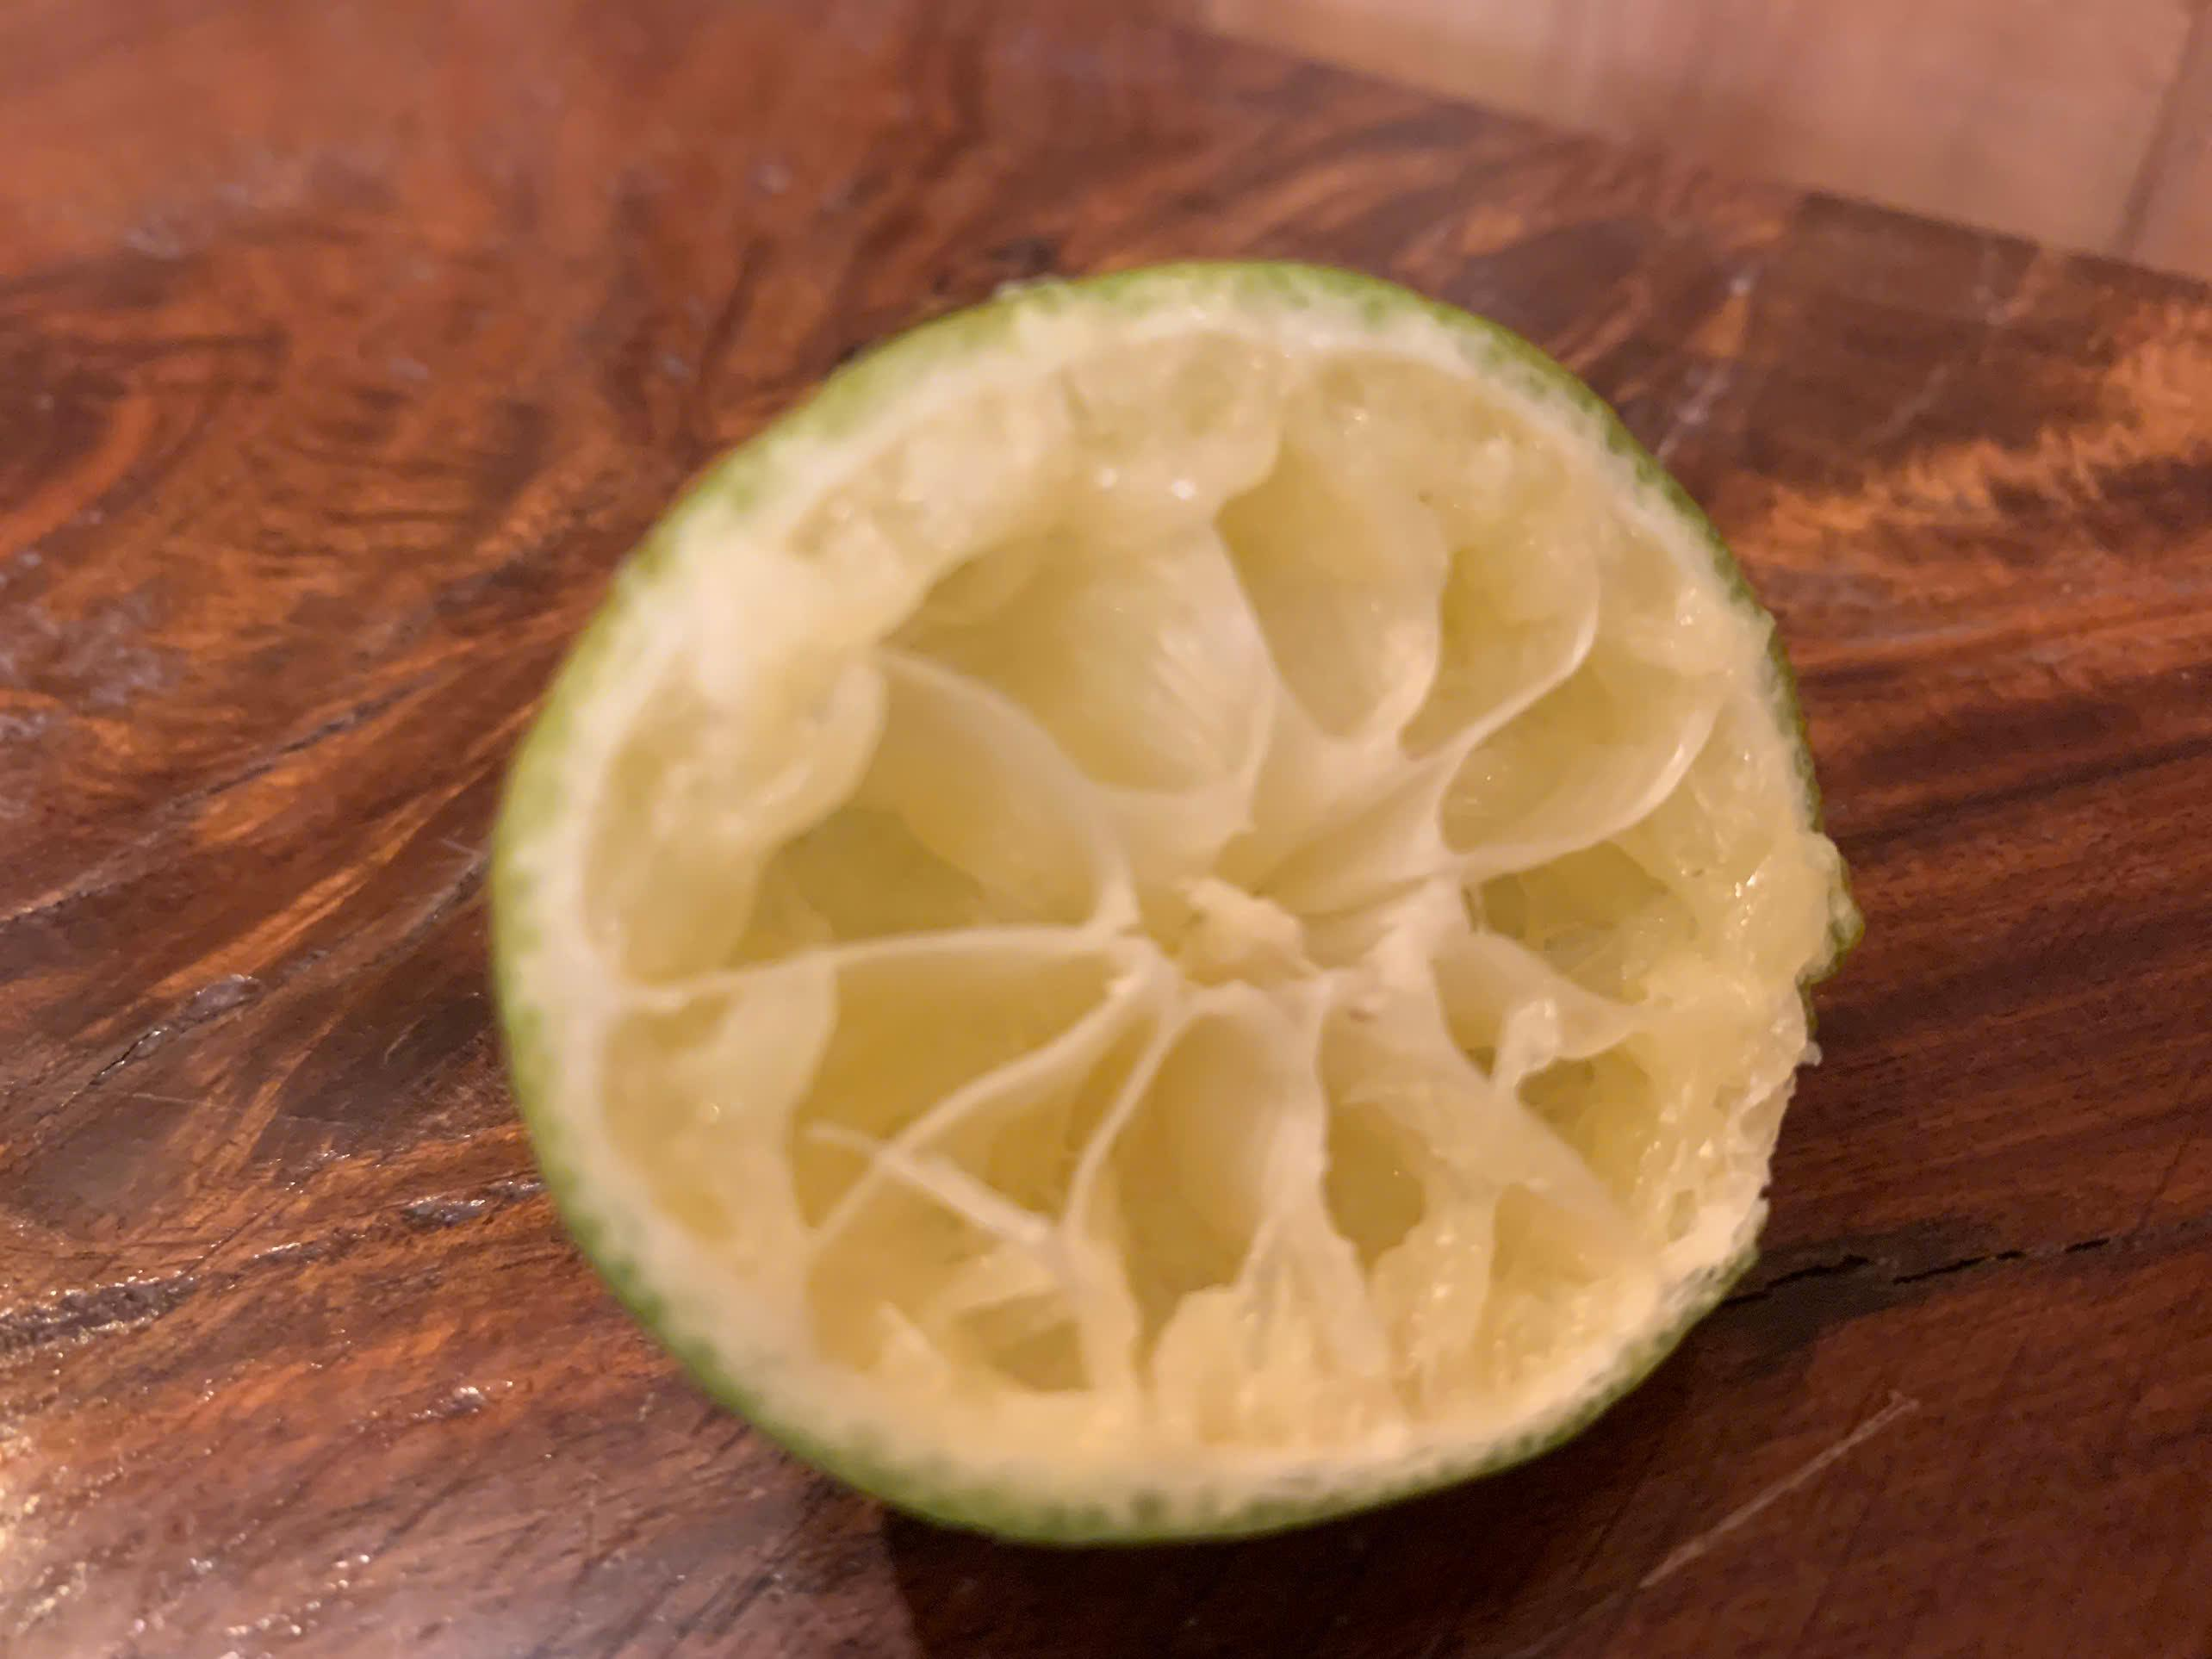Huu co: (495, 265, 1855, 1532)
